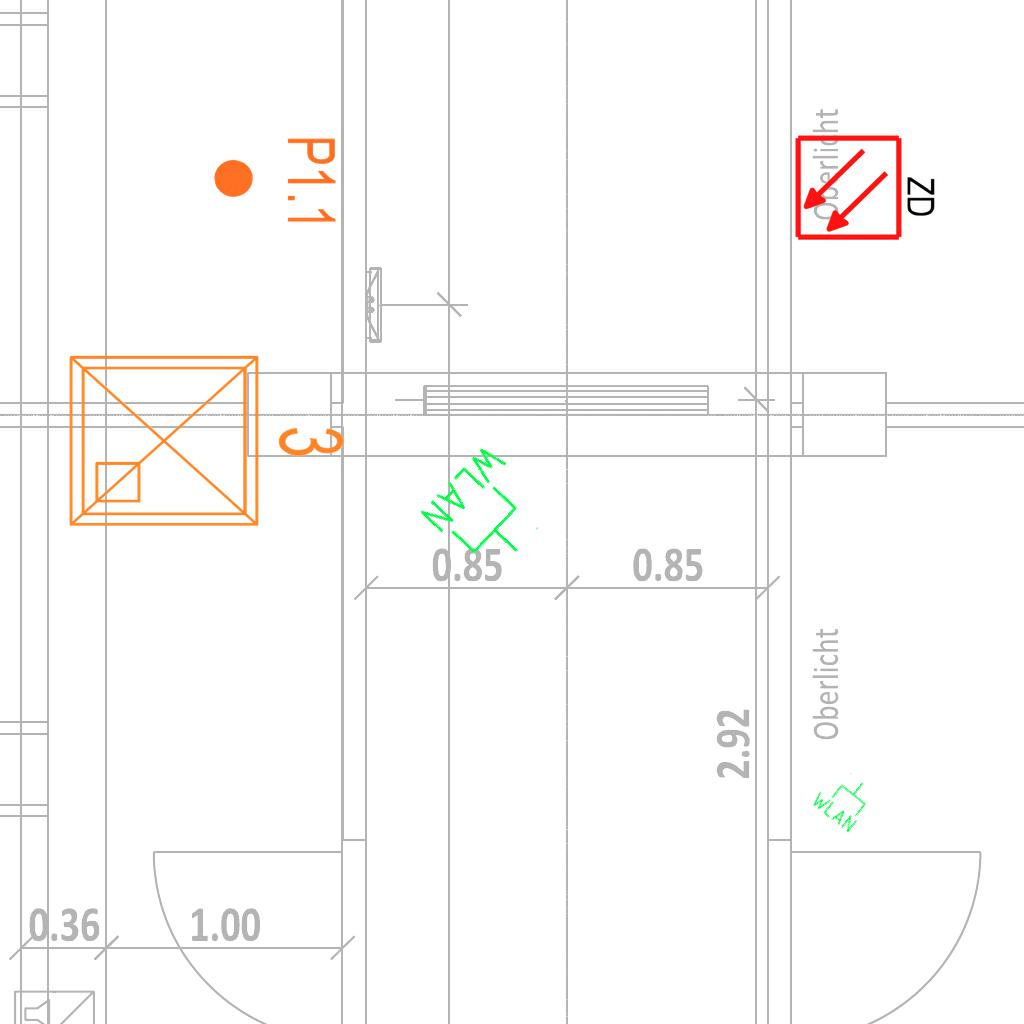Downlight_LED_Einbauleuchten_Flur: (211, 135, 339, 228)
Einbaudownlights_LED_Konferenzraeume: (55, 333, 355, 541)
WLAN: (414, 436, 562, 585), (807, 762, 881, 836)
ZD_Melder_in_Zwischendecke_mit_Revisionsoeffnung_mind_40_x_40_cm: (793, 129, 942, 243)
